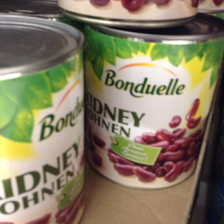beans: (83, 14, 224, 192), (1, 23, 83, 223)
